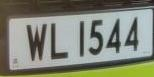1: (74, 16, 90, 62)
4: (122, 11, 142, 59), (105, 13, 124, 60)
5: (86, 15, 106, 61)
L: (47, 19, 72, 64)
W: (25, 19, 50, 65)
